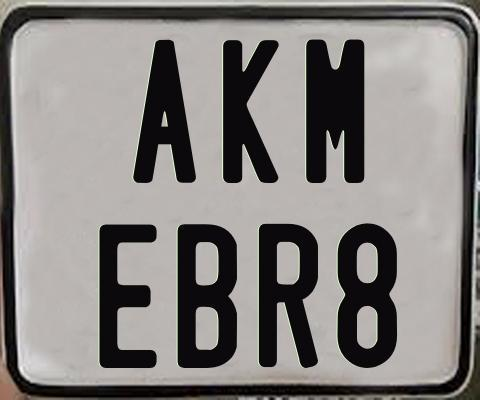8: (337, 220, 399, 371)
A: (132, 38, 196, 183)
B: (176, 224, 237, 371)
E: (96, 221, 157, 371)
K: (220, 39, 282, 185)
M: (304, 39, 362, 186)
R: (257, 224, 321, 372)
